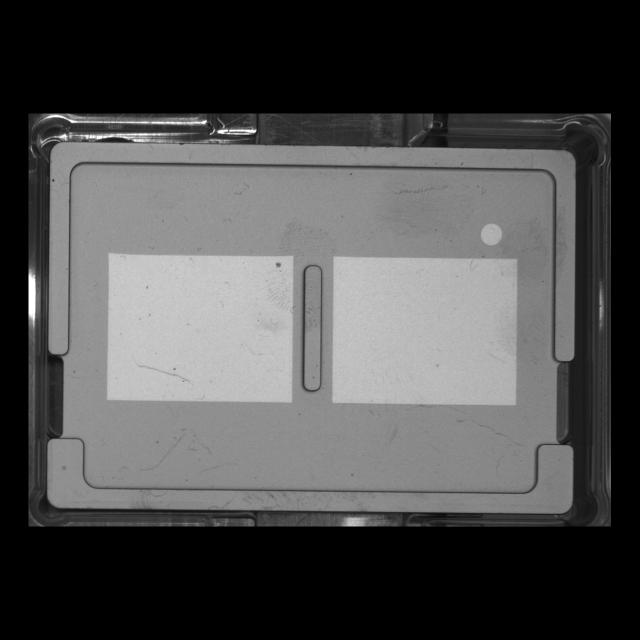door: (37, 428, 585, 522)
point: (472, 215, 512, 254)
